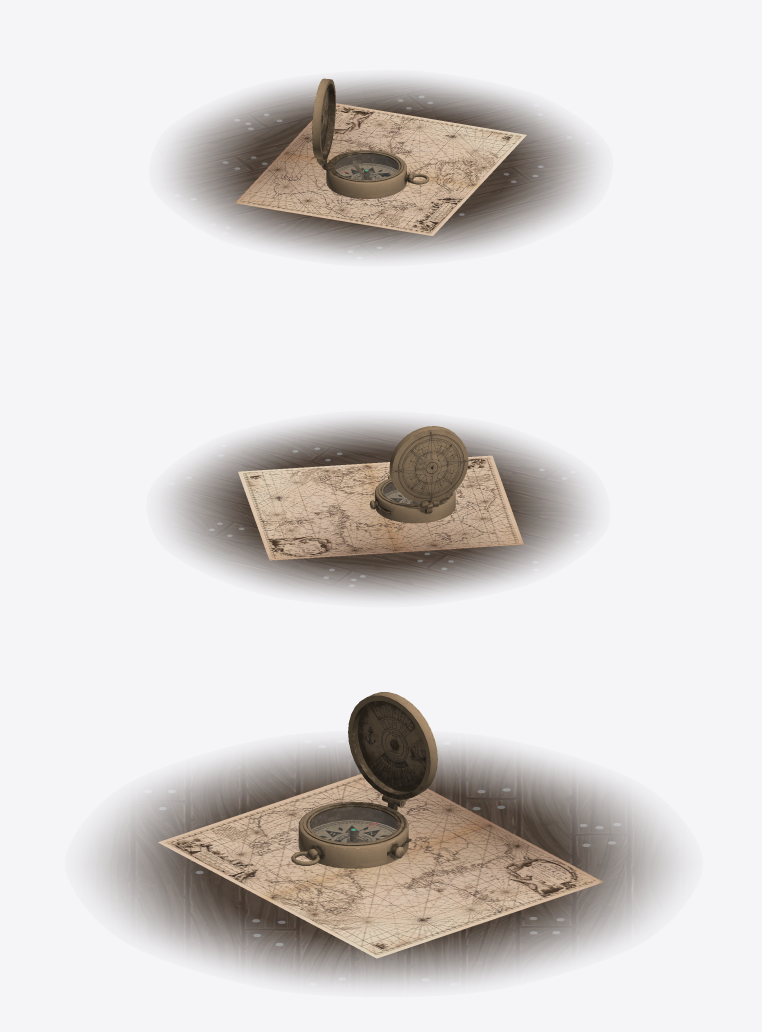
File: compass-B6L-EfRf.glb
3 views of the same model, one above another, from view 1: azimuth 30°, elevation 25°; view 2: azimuth 150°, elevation 25°; view 3: azimuth 270°, elevation 25° (orthographic). The views are drawn at different scales.
Parts seen in each view (by area): view 1: Object_4, Object_2, Object_3; view 2: Object_4, Object_2, Object_3; view 3: Object_4, Object_2, Object_3.
Part boxes in pixels (bbox=[...]): Object_4: bbox=[170, 79, 591, 257]; Object_2: bbox=[235, 103, 526, 235]; Object_3: bbox=[312, 78, 429, 198]; Object_4: bbox=[168, 419, 588, 598]; Object_2: bbox=[238, 455, 523, 560]; Object_3: bbox=[369, 426, 468, 523]; Object_4: bbox=[94, 743, 673, 984]; Object_2: bbox=[158, 774, 603, 958]; Object_3: bbox=[291, 692, 437, 868].
Size of the model in its own units: 13.31 by 2.64 by 13.31.
Materials: 3 (3 with a texture image).
